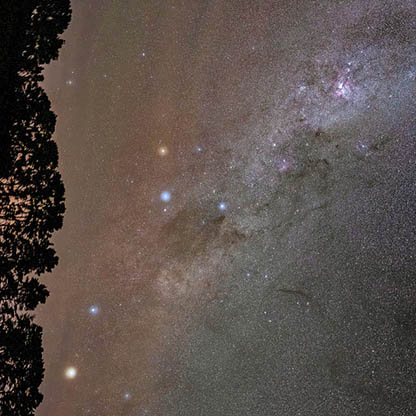Southern Cross: (153, 136, 172, 165), (157, 184, 175, 211), (213, 199, 235, 218), (195, 141, 212, 160)
